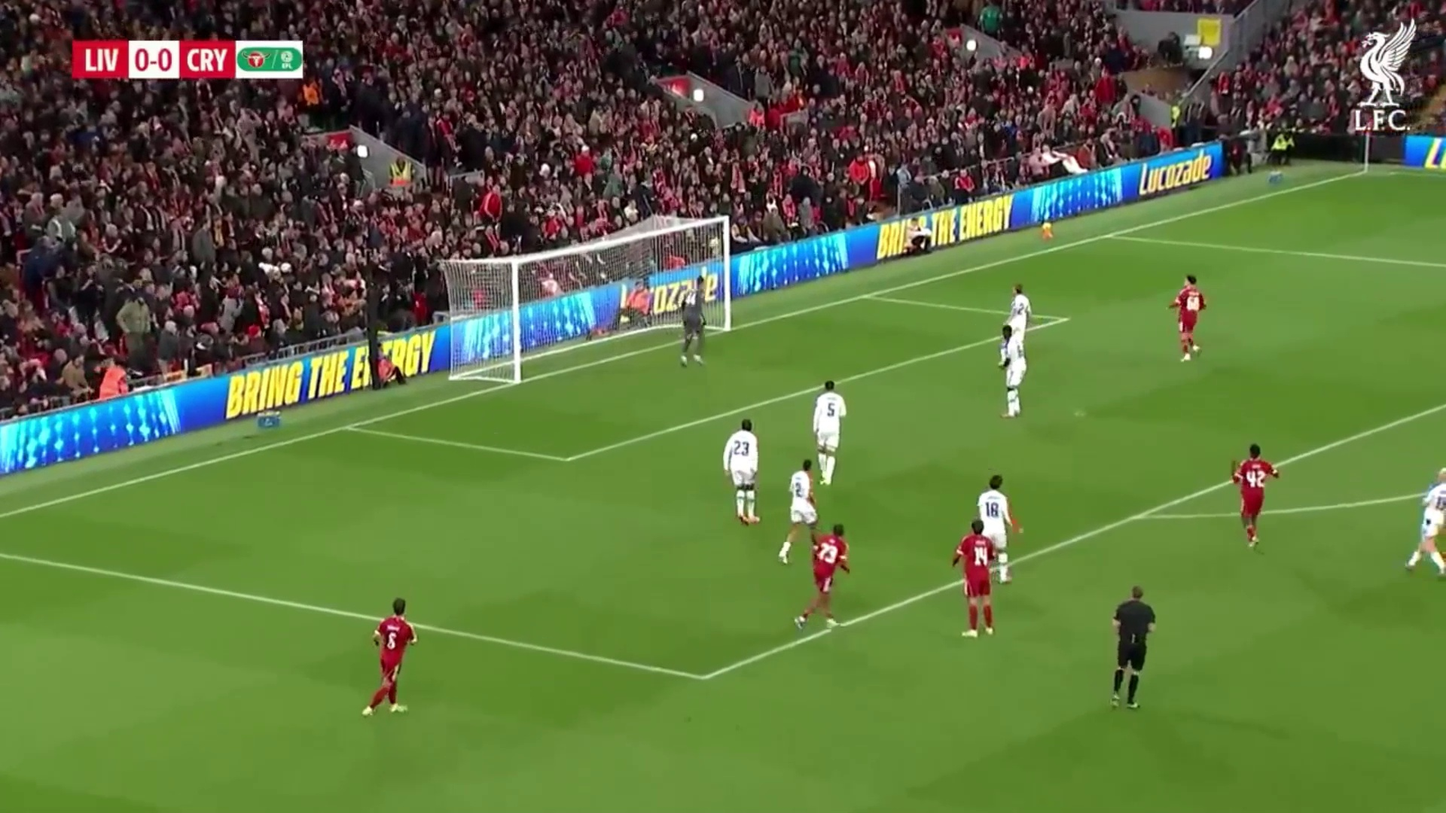player: (997, 286, 1050, 419), (365, 596, 417, 716), (795, 524, 852, 632), (1110, 584, 1157, 709), (953, 520, 999, 640), (1232, 441, 1280, 550), (976, 473, 1020, 585), (1403, 467, 1446, 579), (775, 462, 819, 566), (999, 283, 1031, 419), (723, 421, 761, 527), (811, 380, 846, 486), (1169, 272, 1205, 362), (978, 474, 1018, 554), (679, 287, 709, 367), (624, 277, 655, 323)
